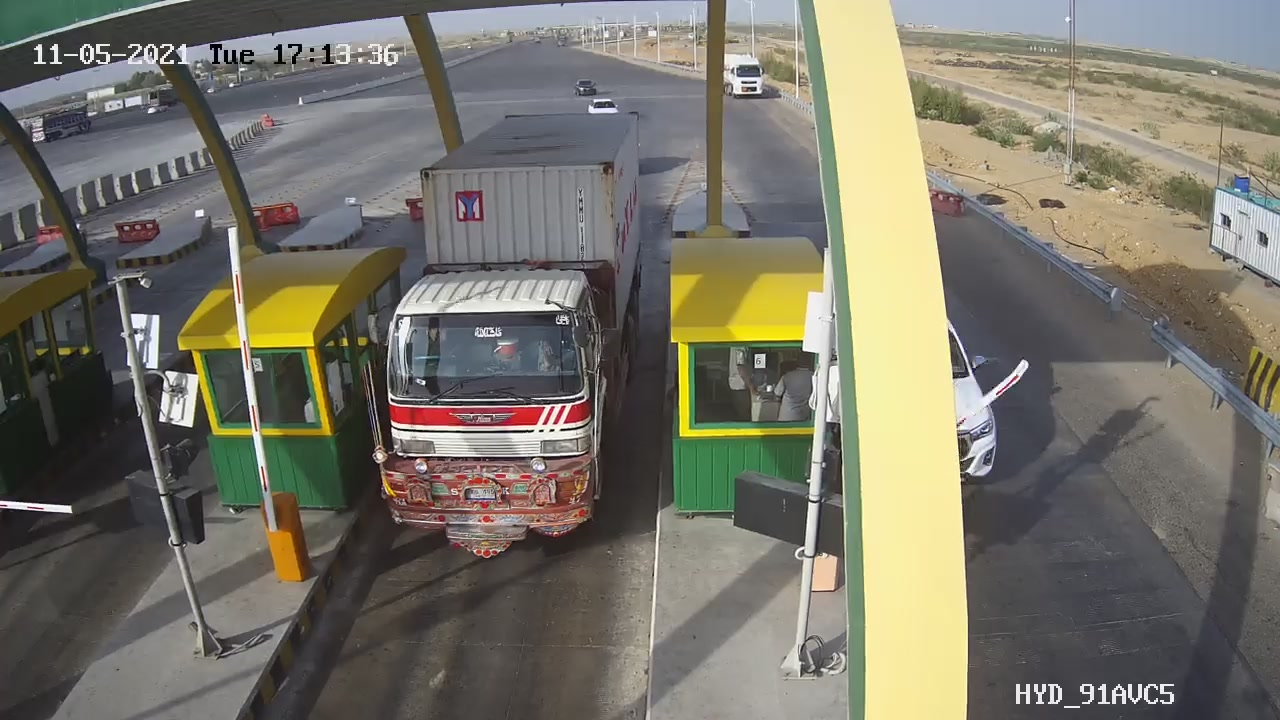F6: (351, 105, 665, 570)
